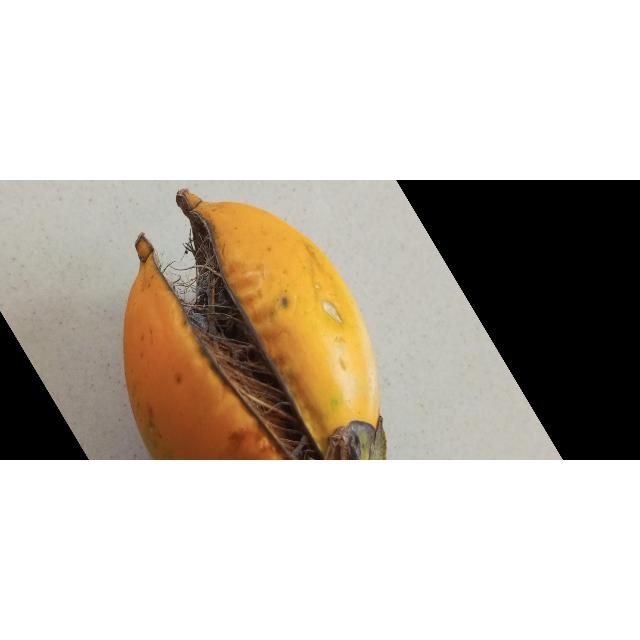damaged: (124, 189, 386, 461)
